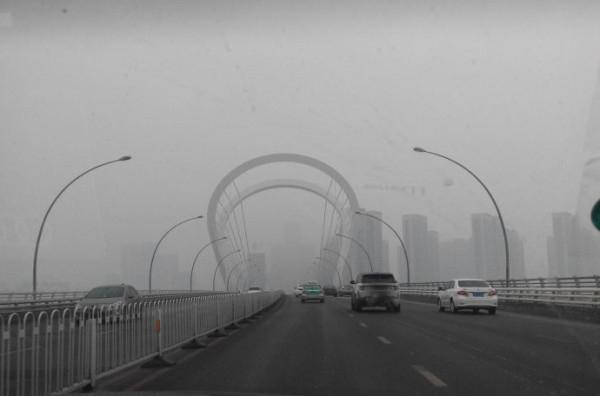car: (72, 281, 144, 324), (435, 276, 499, 316), (349, 271, 402, 311), (301, 280, 325, 303), (292, 280, 313, 298), (338, 284, 355, 298), (245, 286, 263, 299), (321, 283, 338, 296)
